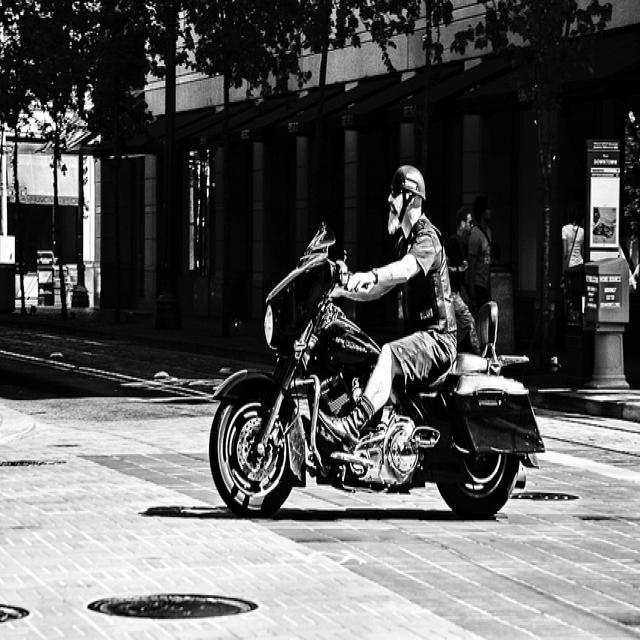motor: (206, 220, 546, 521)
